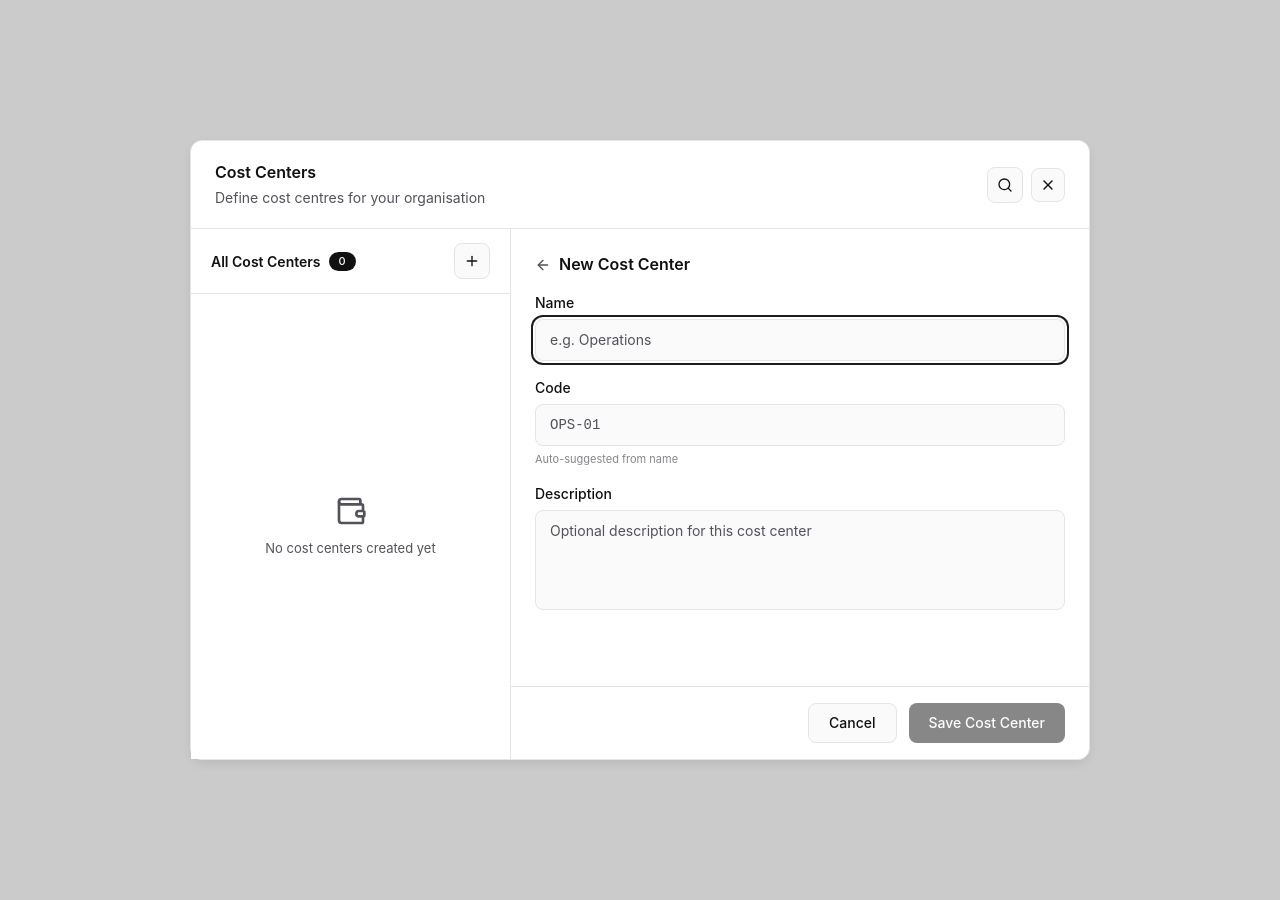
Test: CostCenterModal › auto-generates code when name is typed
Type "Operations" into the field with test id "cc-name-input" at (800, 340), box x1=535 y1=319 x2=1065 y2=361
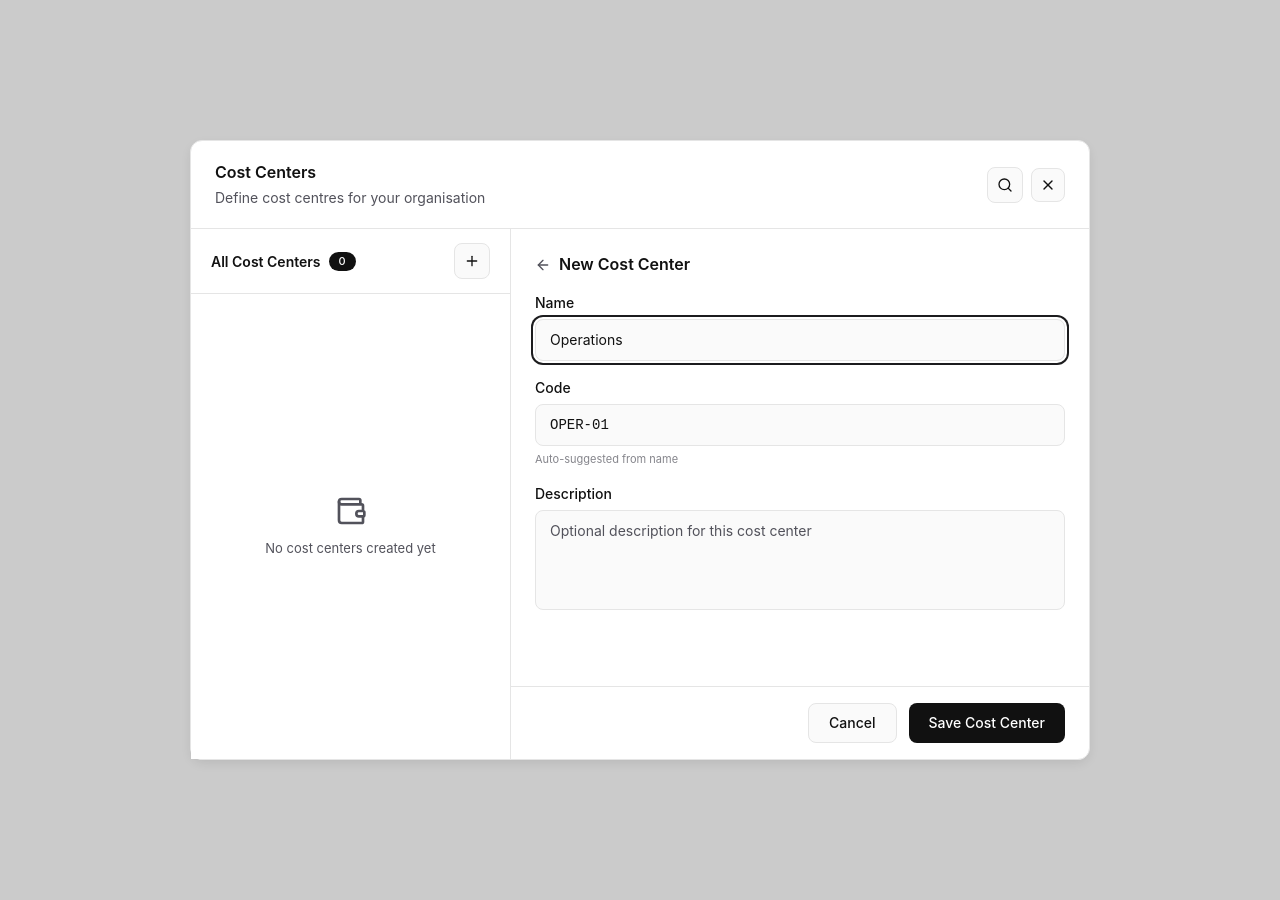
expect the field with test id "cc-code-input" holds "OPER-01": met, box x1=535 y1=404 x2=1065 y2=446
